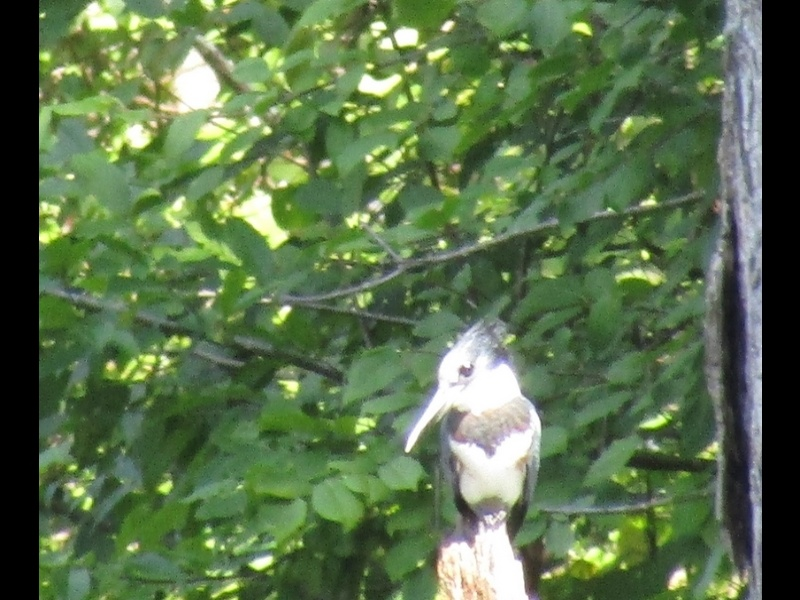kingfisher: (402, 315, 545, 548)
